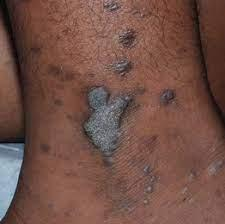hypertrophic lichen planus: (66, 28, 205, 193)
